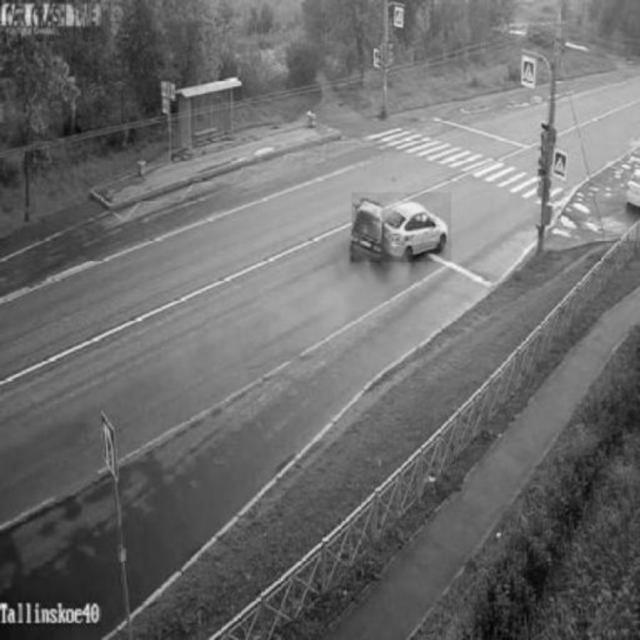accident: (352, 193, 452, 263)
